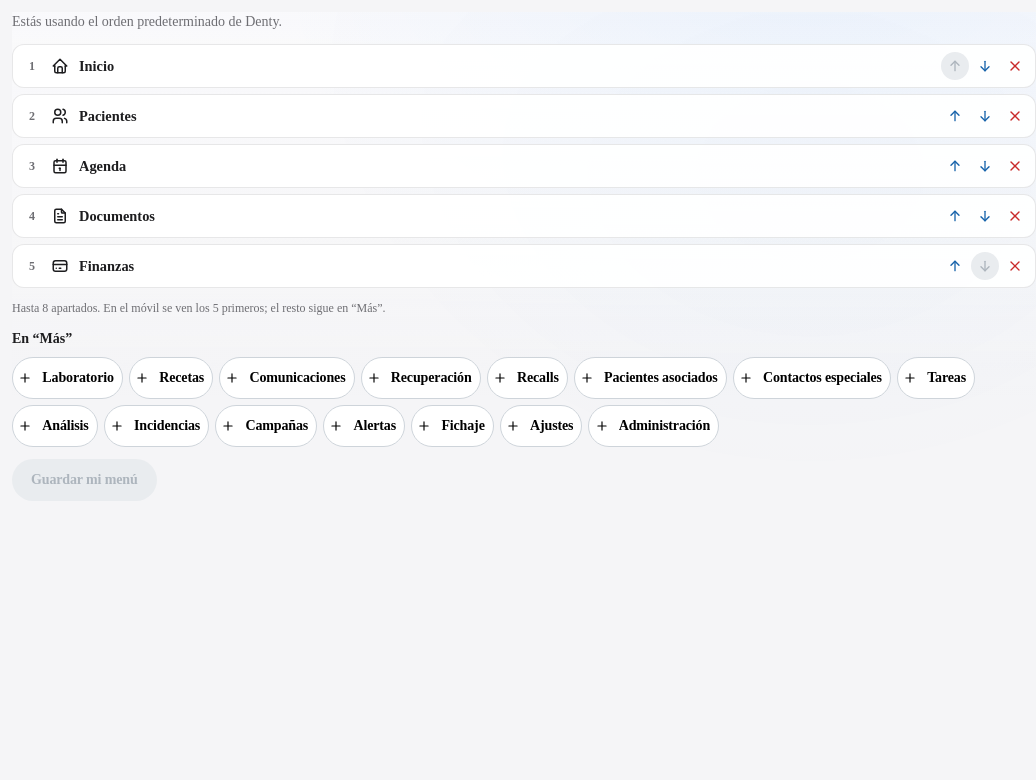
Scenario: NavigationLayoutEditor › shows a save failure
Step 1. Click the button named "Bajar Inicio" → click(985, 66), box [971,52,999,80]
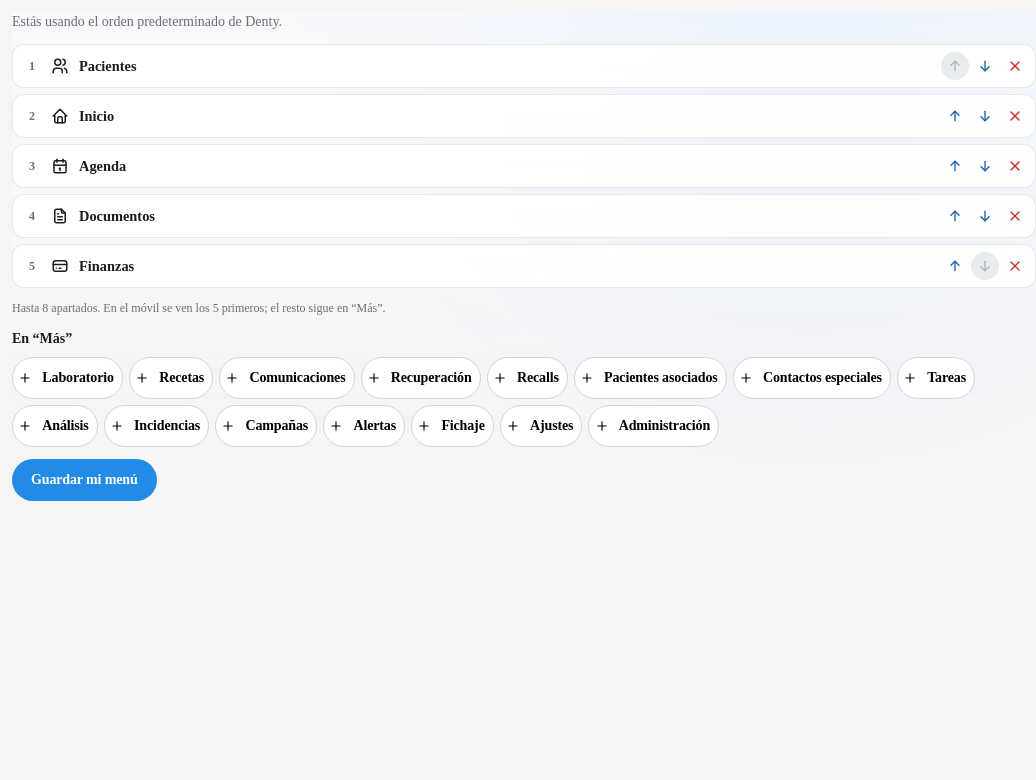
Step 2. Click the button "Guardar mi menú" → click(84, 480), box [12,459,156,501]
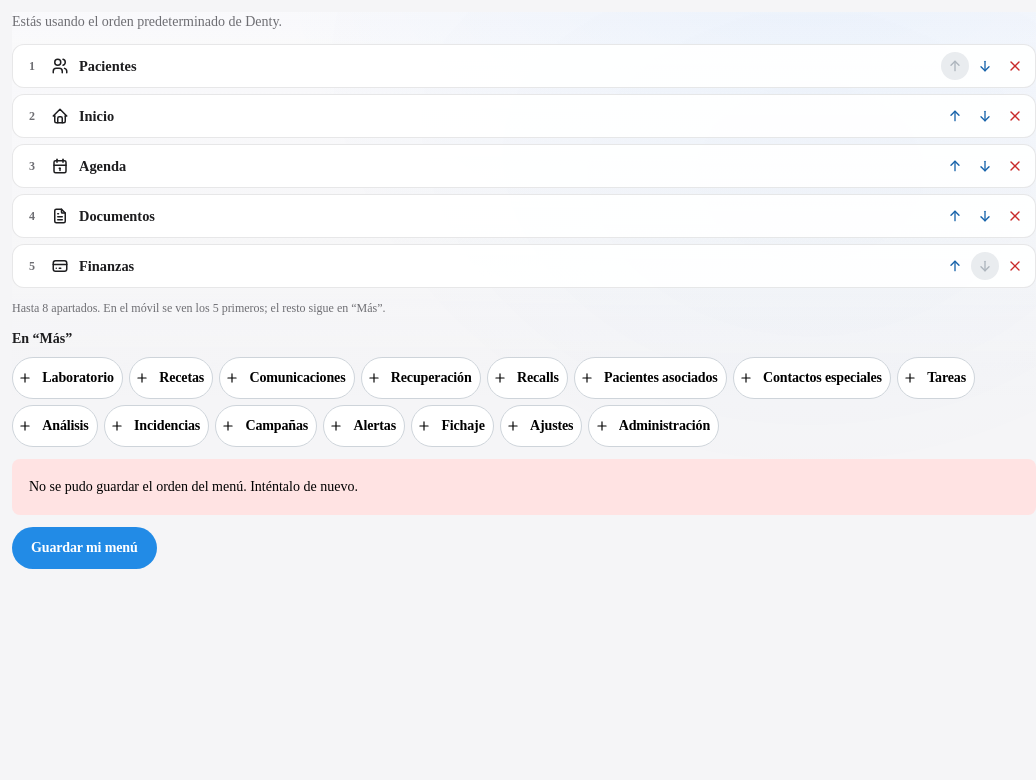
Expected: the message shows "No se pudo guardar", [29,479,358,494]
